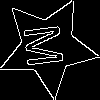M: (23, 22, 73, 69)
